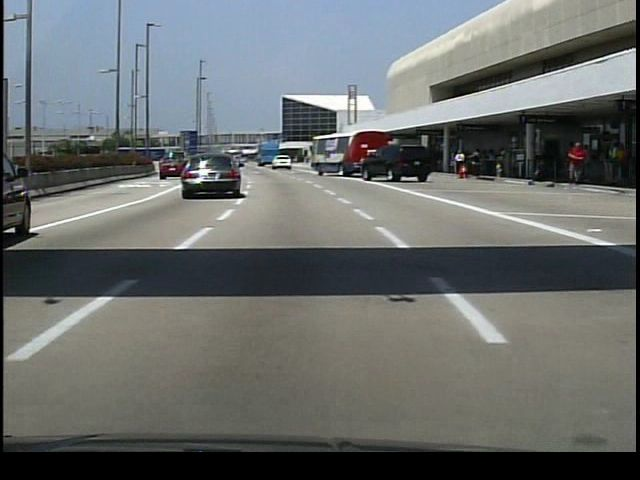person: (563, 140, 589, 189), (454, 150, 470, 183)
